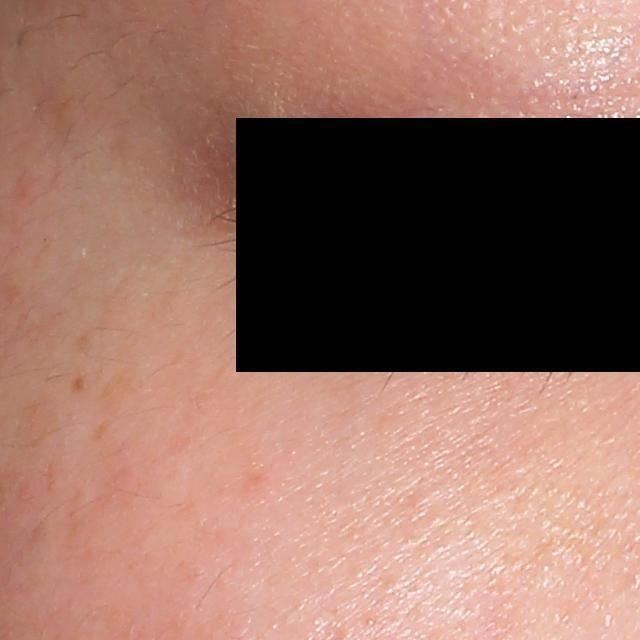melasma: (92, 365, 145, 441), (71, 371, 92, 393)
